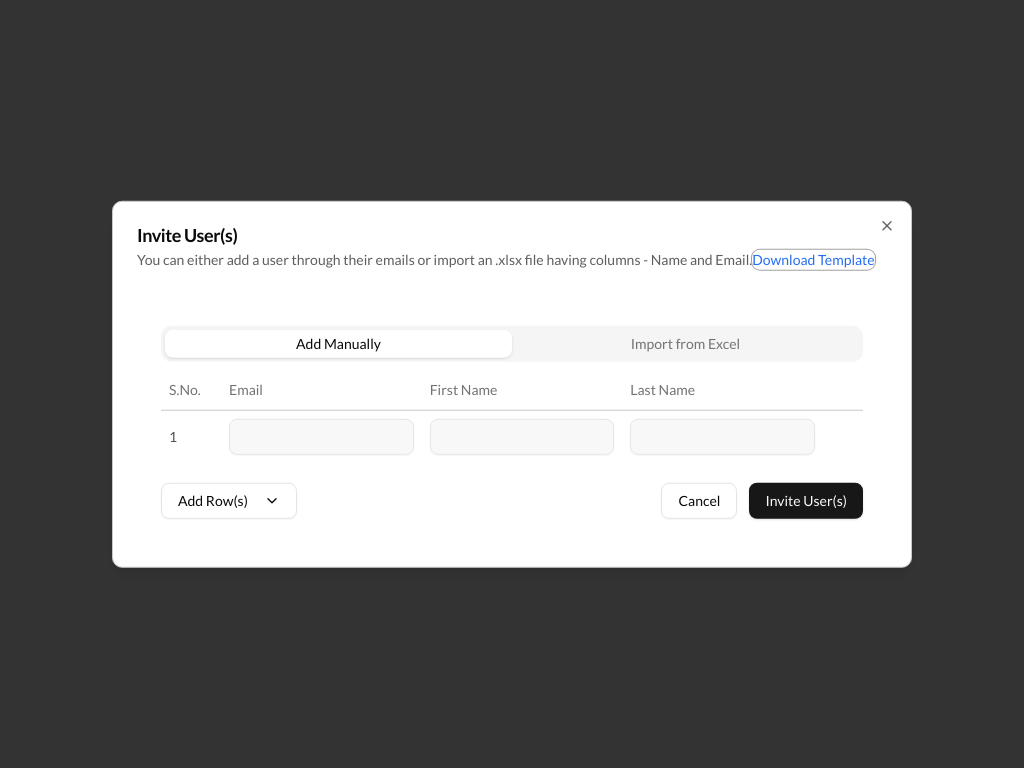
Test case: InviteUserDialog Component › Tab Switching › should switch back to manual tab when clicked
Click the tab "Import from Excel": click(686, 344) [512,330,859,358]
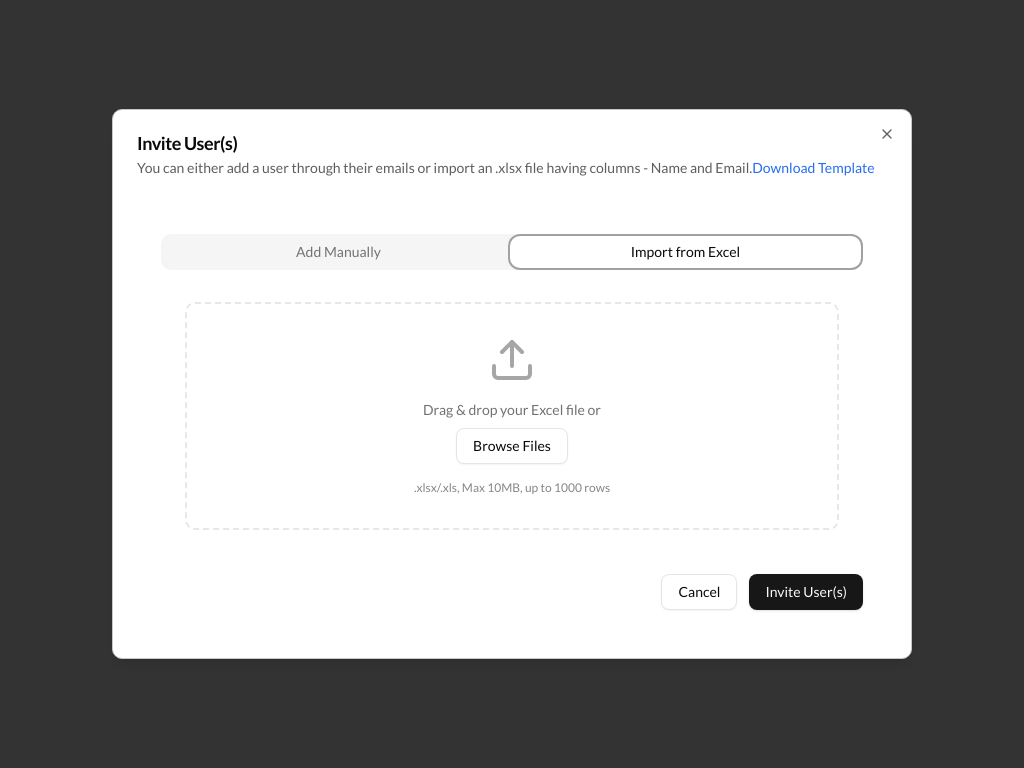
Click the tab "Add Manually": click(338, 252) [165,238,512,266]
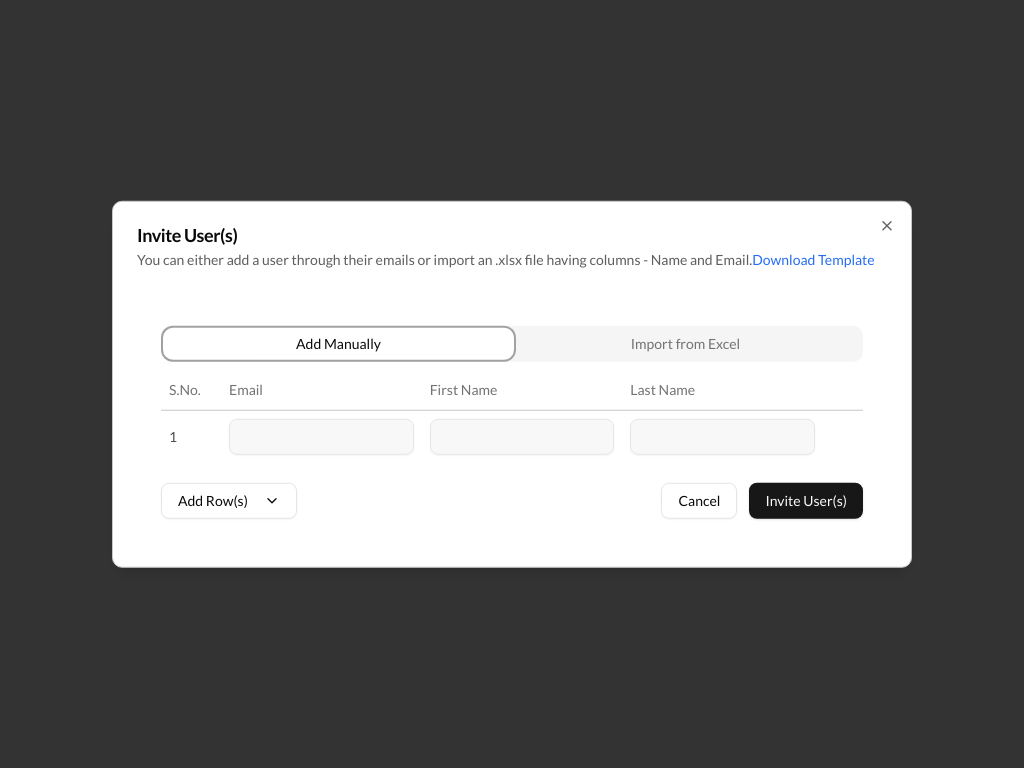
Check: the button "Add Row(s)" is shown, box [161,482,297,518]
